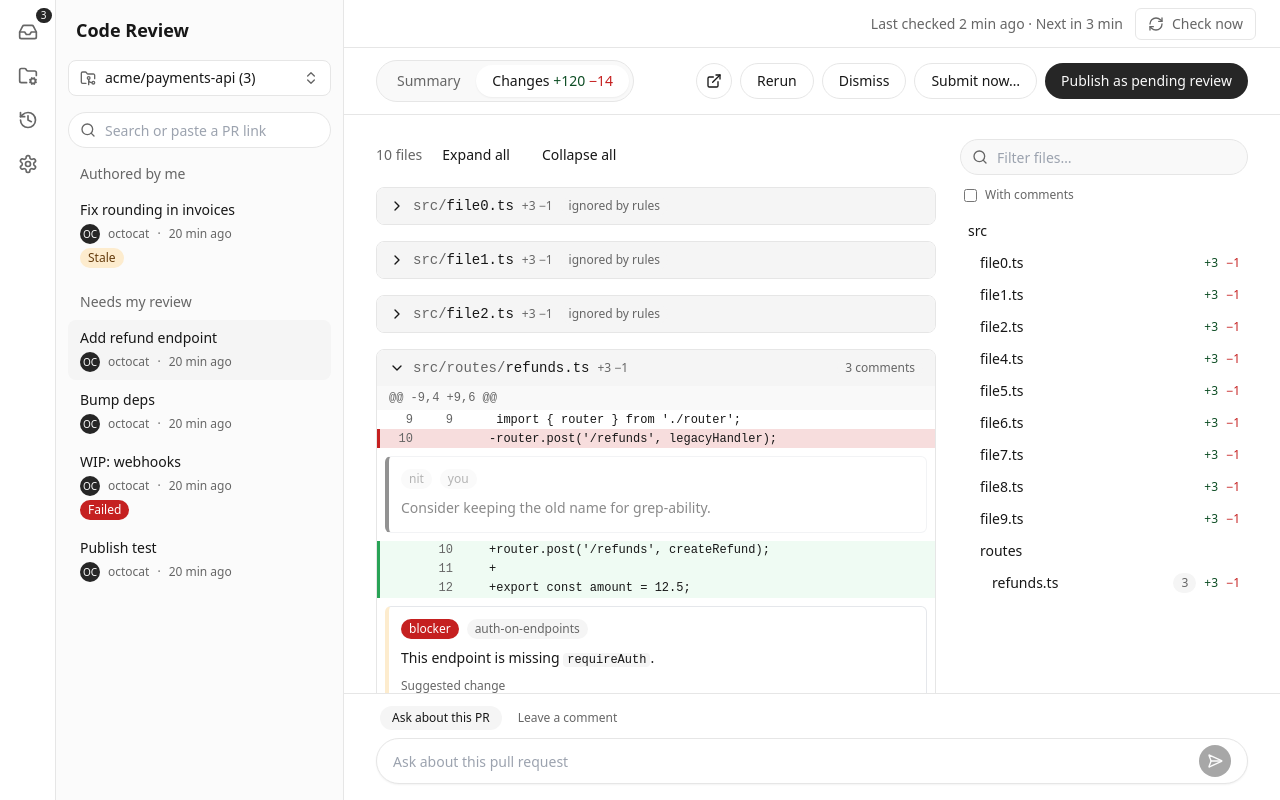
Test: Review detail › on a large PR only opens files that have comments, and can expand all
Click the button "Expand all" at (476, 155), box 430,139 -> 522,171
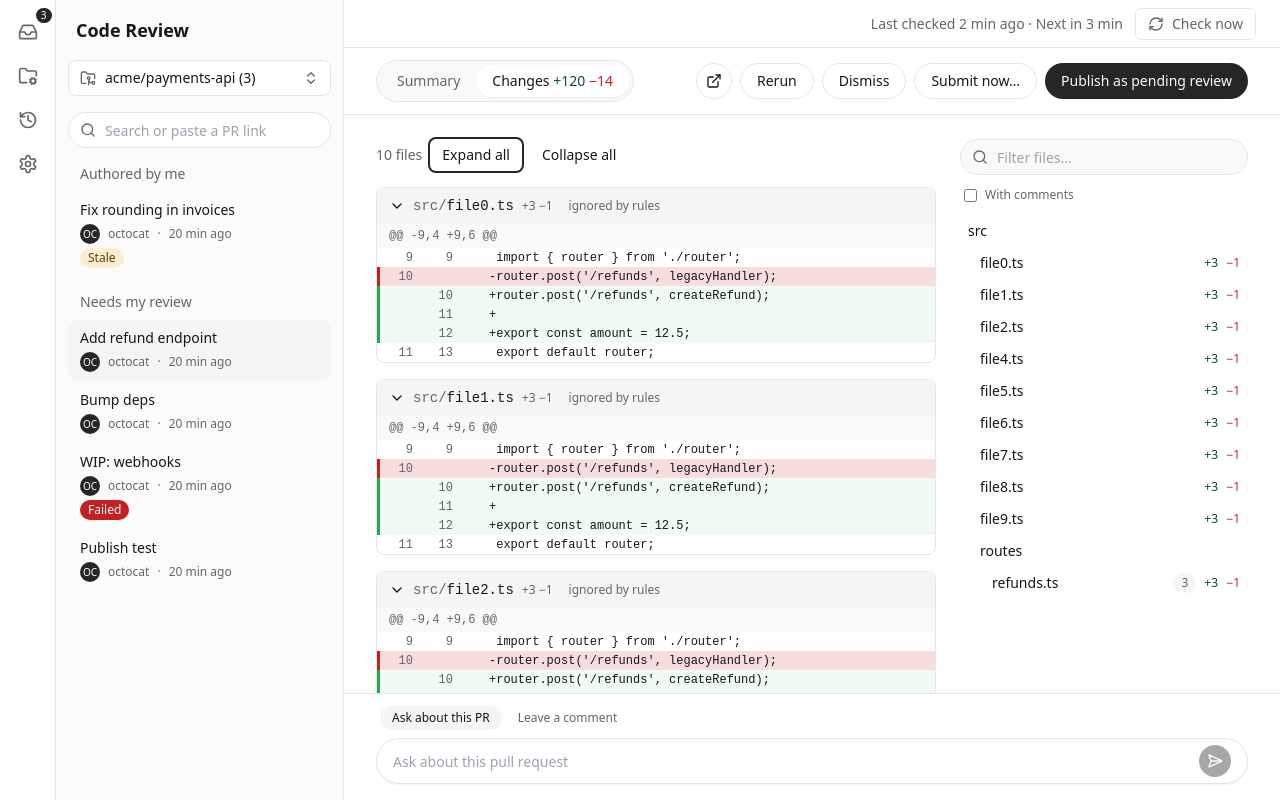
Expected: the button "src/file0.ts +3 −1 ignored by rules" is expanded, 377,188 -> 935,224
